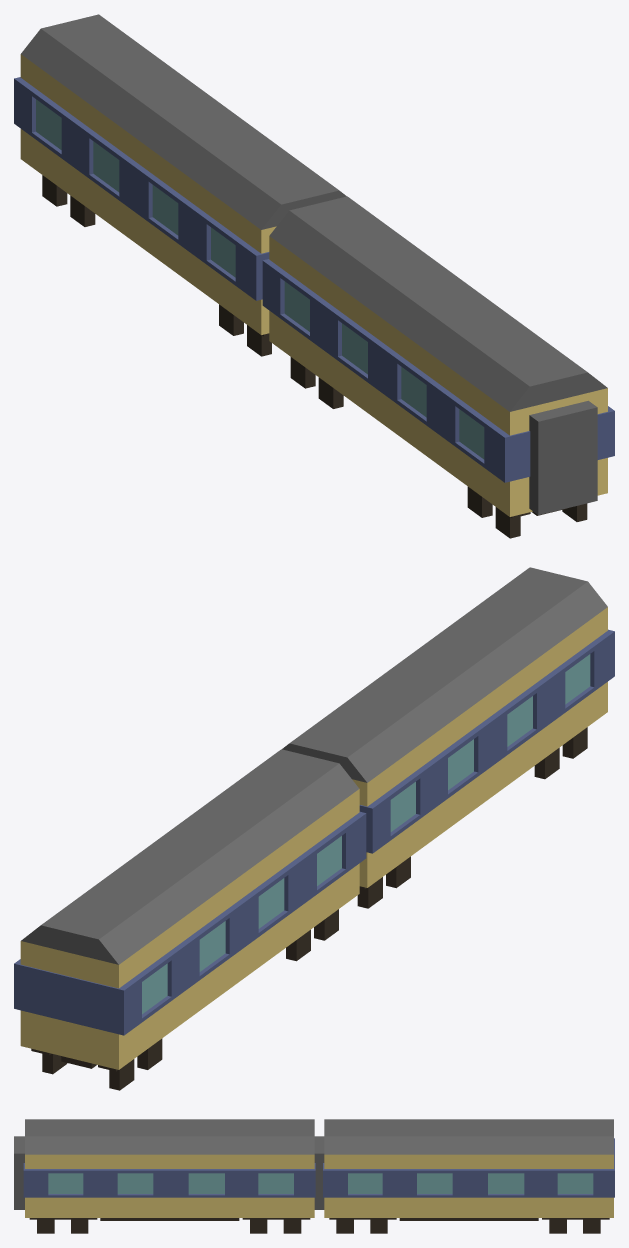
The model's file is Wagon.fbx.
3 views of the same model, one above another, from view 1: azimuth 30°, elevation 25°; view 2: azimuth 150°, elevation 25°; view 3: azimuth 270°, elevation 25° (orthographic). The views are drawn at different scales.
Parts seen in each view (by area): view 1: pCube35 (×2), pCube36 (×2), pCube51; view 2: pCube35 (×2), pCube36 (×2); view 3: pCube35 (×2), pCube36 (×2), pCube51 (×2), pCube49 (×2), pCube37 (×2), pCube46 (×2), pCube38 (×2), pCube45 (×2).
Part boxes in pixels (bbox=[...]): pCube35 (×2): bbox=[20, 14, 607, 516]; pCube36 (×2): bbox=[14, 77, 614, 482]; pCube51: bbox=[529, 400, 597, 515]; pCube35 (×2): bbox=[20, 567, 607, 1069]; pCube36 (×2): bbox=[14, 629, 614, 1035]; pCube35 (×2): bbox=[25, 1119, 613, 1217]; pCube36 (×2): bbox=[23, 1138, 614, 1197]; pCube51 (×2): bbox=[14, 1136, 324, 1209]; pCube49 (×2): bbox=[100, 1218, 538, 1220]; pCube37 (×2): bbox=[283, 1219, 600, 1233]; pCube46 (×2): bbox=[37, 1219, 353, 1233]; pCube38 (×2): bbox=[250, 1219, 566, 1233]; pCube45 (×2): bbox=[71, 1219, 387, 1233].
Size of the model in its own units: 6.61 by 9 by 51.85.
